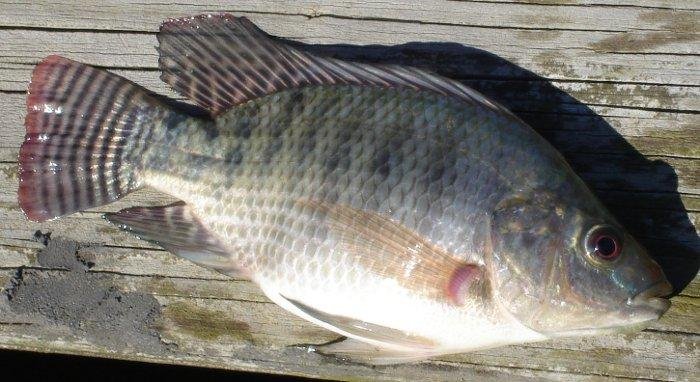Tilapia: (16, 16, 672, 356)
